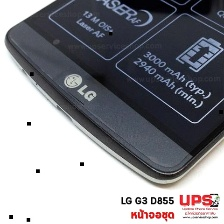phone: (2, 0, 224, 186)
